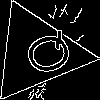Q: (12, 27, 78, 83)
